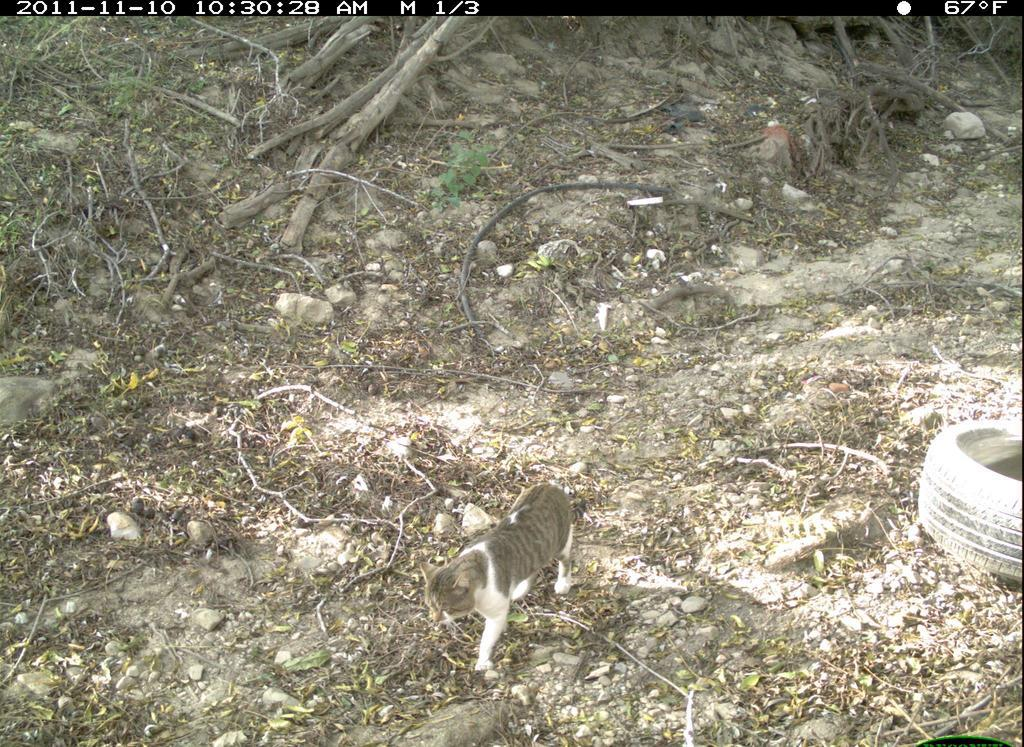cat: (400, 455, 653, 682)
